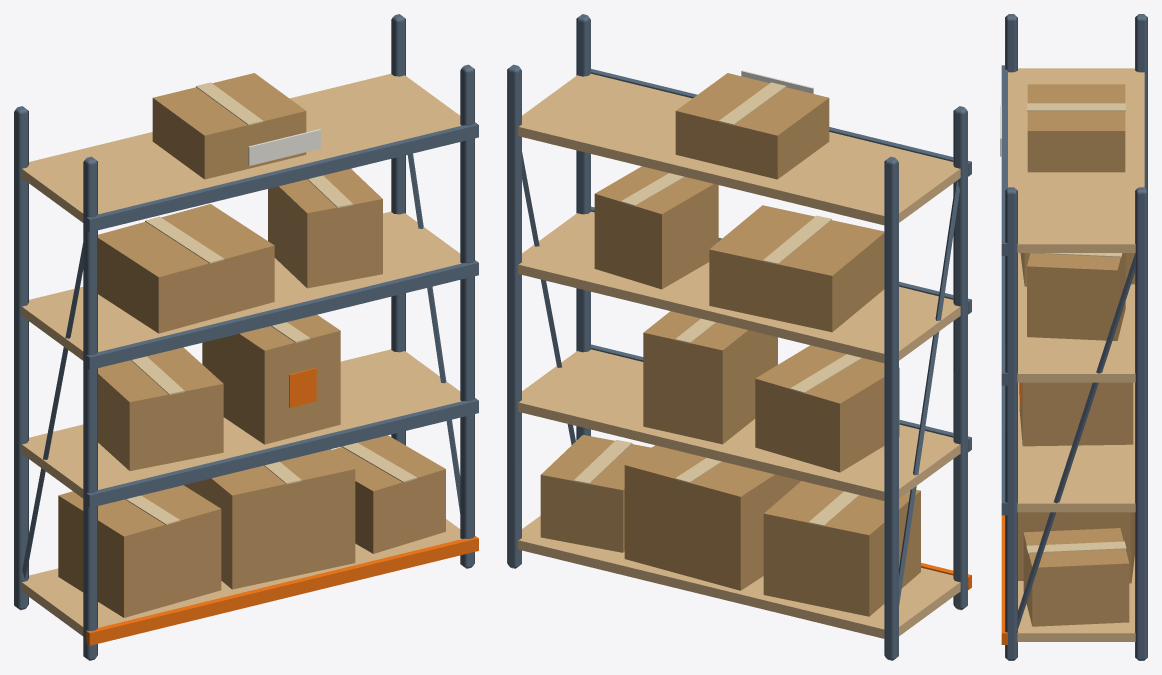
File: station_transport_basis.glb
3 renders of one model, left to right at view 1: azimuth 30°, elevation 25°; view 2: azimuth 150°, elevation 25°; view 3: azimuth 270°, elevation 25°, orthographic. The views are drawn at different scales.
Parts seen in each view (by area): view 1: station_transport_basis; view 2: station_transport_basis; view 3: station_transport_basis.
Part boxes in pixels (x1,y1,x2,y2): station_transport_basis: [14, 14, 478, 660]; station_transport_basis: [507, 14, 971, 660]; station_transport_basis: [1000, 14, 1147, 660].
Bounding box in the file's own units: 1.3 × 1.6 × 0.455.
